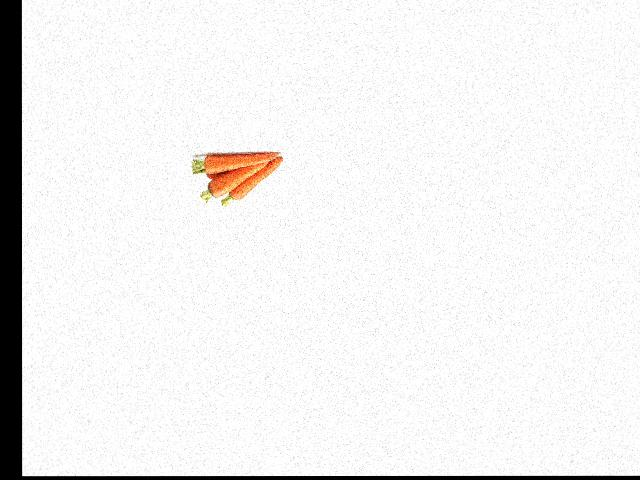carrot: (197, 144, 282, 173)
